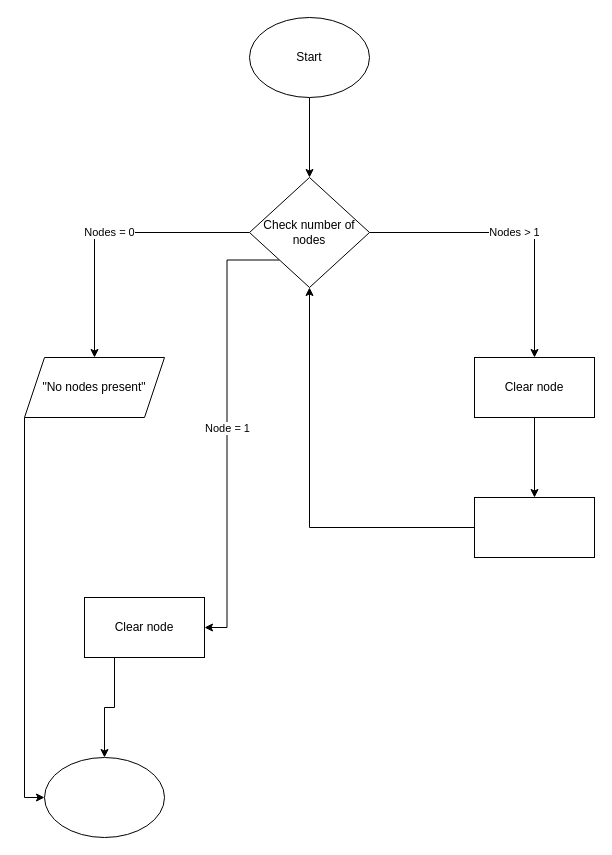
This 612x855 diagram has some shape labels left out. Each missing label, with the box of its shape:
End: (44, 756, 164, 838)
Move to next node: (474, 496, 594, 558)
